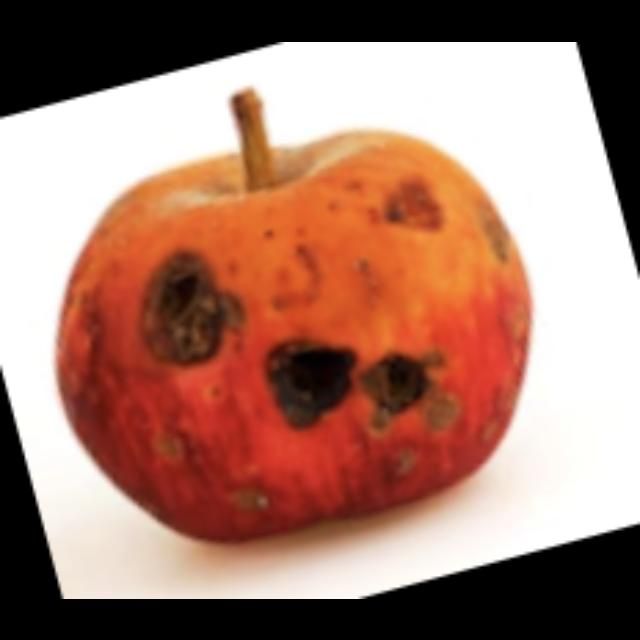Apel Tidak Segar: (60, 160, 536, 547)
